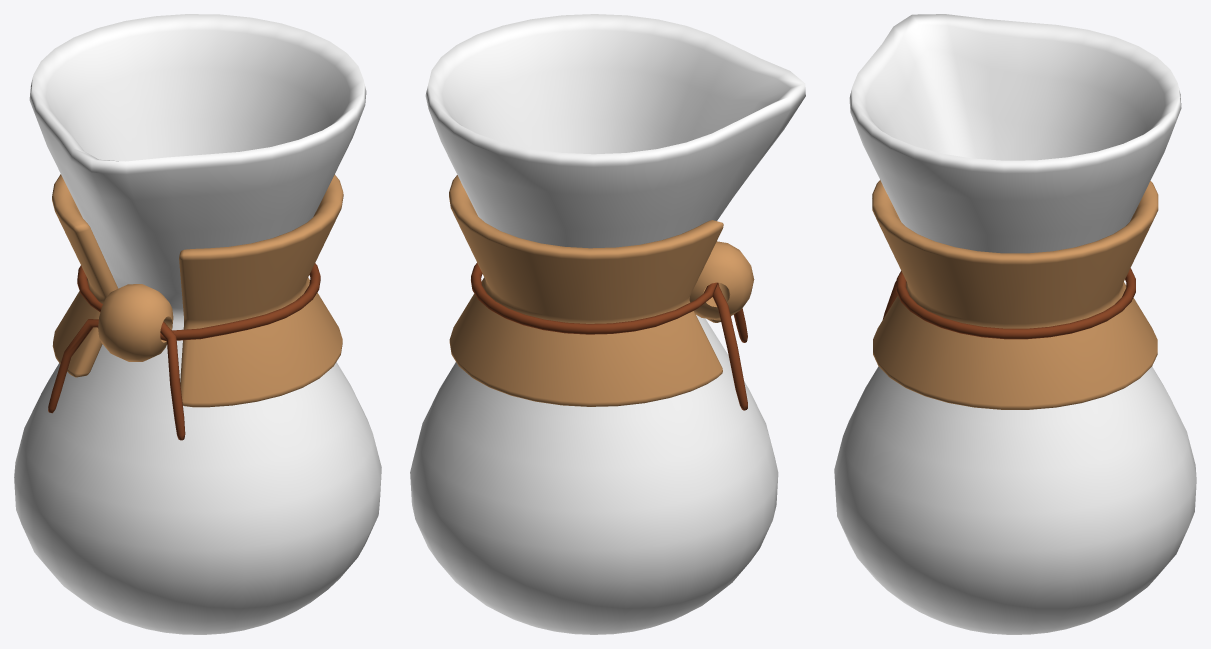
File: SM_chemex.fbx
The picture shows the model from 3 angles, left to right: view 1: azimuth 30°, elevation 25°; view 2: azimuth 150°, elevation 25°; view 3: azimuth 270°, elevation 25°; orthographic projection.
Parts seen in each view (by area): view 1: SM_chemex; view 2: SM_chemex; view 3: SM_chemex.
Boxes of the visible parts, x1,y1,x2,y2 form: SM_chemex: [14, 14, 381, 634]; SM_chemex: [410, 14, 805, 634]; SM_chemex: [834, 14, 1196, 634].
Size of the model in its own units: 31.26 by 47.83 by 31.03.
2 materials, 2 textured.
